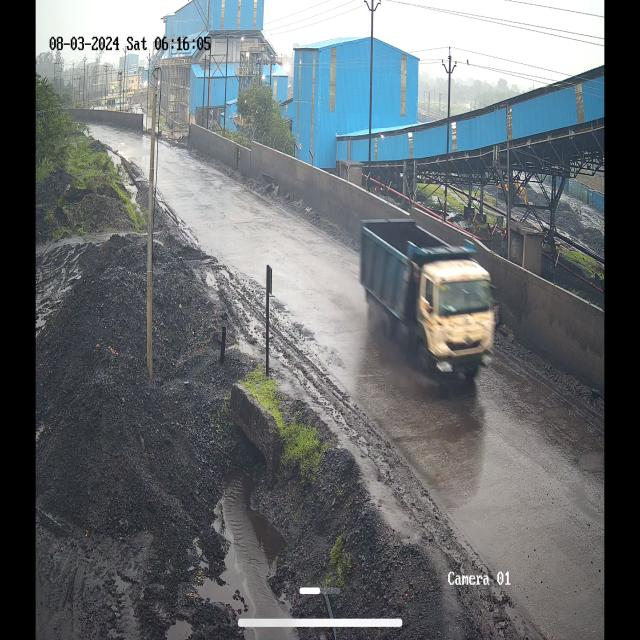dump_truck: (360, 204, 496, 392)
